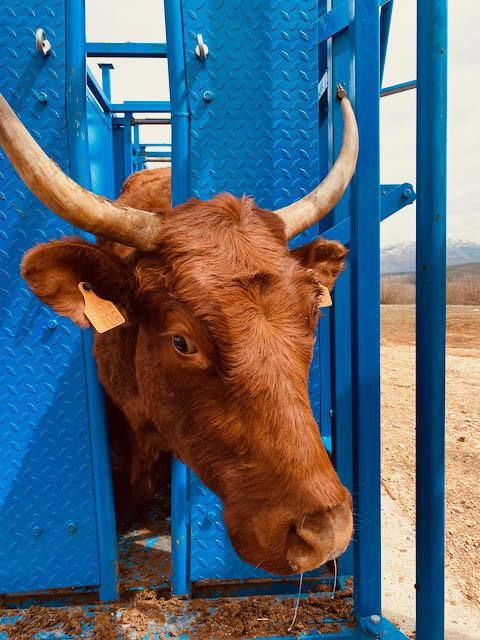muzzles: (270, 502, 358, 574)
